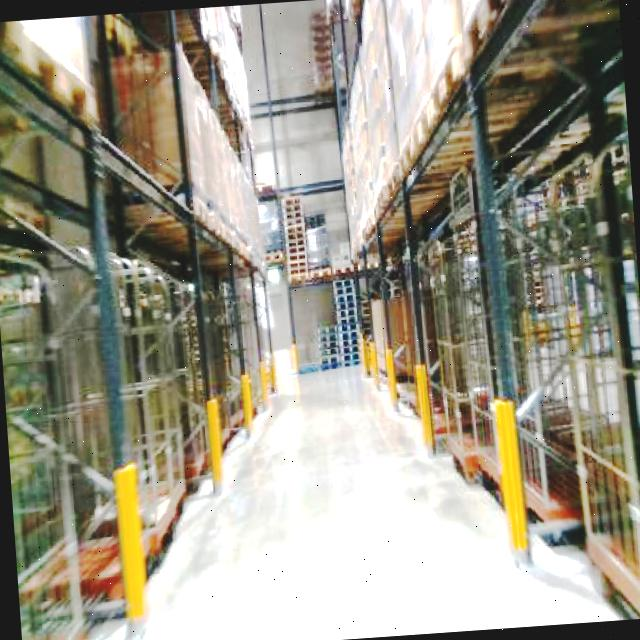ground: (5, 339, 640, 640)
pallet: (328, 0, 640, 636), (0, 4, 295, 640), (358, 316, 640, 635), (3, 352, 295, 640), (10, 468, 196, 640)
